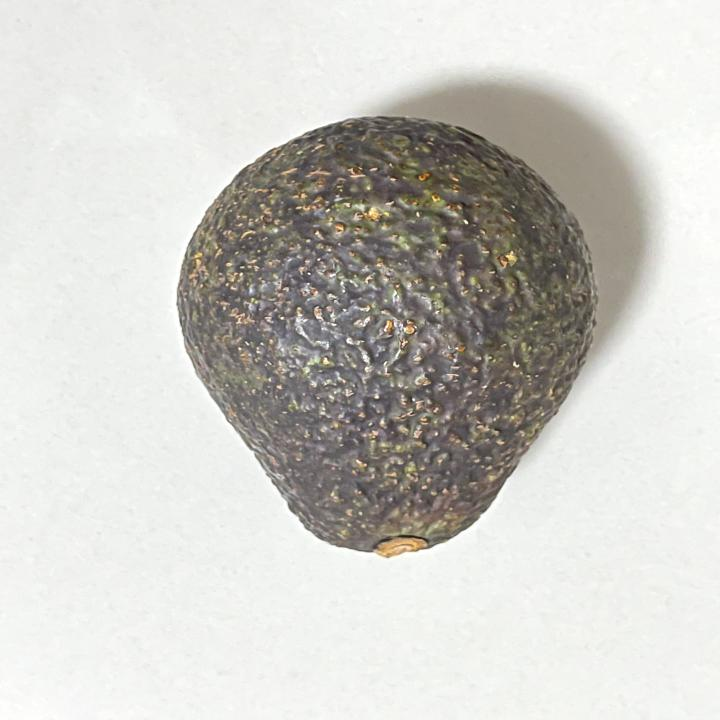Level1: (166, 104, 612, 572)
